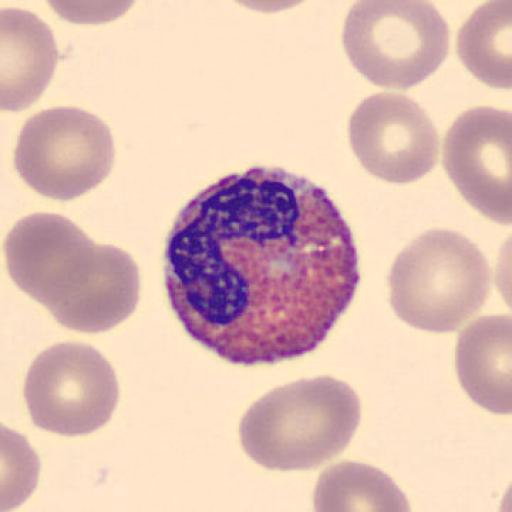RBC: (6, 215, 143, 335), (237, 373, 363, 473), (386, 226, 492, 335), (12, 104, 116, 204), (340, 0, 451, 92), (22, 338, 122, 439), (45, 239, 143, 335), (3, 210, 97, 308), (346, 90, 440, 186), (441, 103, 512, 226), (453, 311, 512, 418), (2, 6, 58, 112), (311, 458, 413, 512), (455, 0, 512, 92), (1, 421, 42, 512), (43, 0, 142, 27), (216, 0, 323, 16), (495, 231, 512, 313), (496, 471, 512, 512)
WBC: (162, 166, 366, 367)
